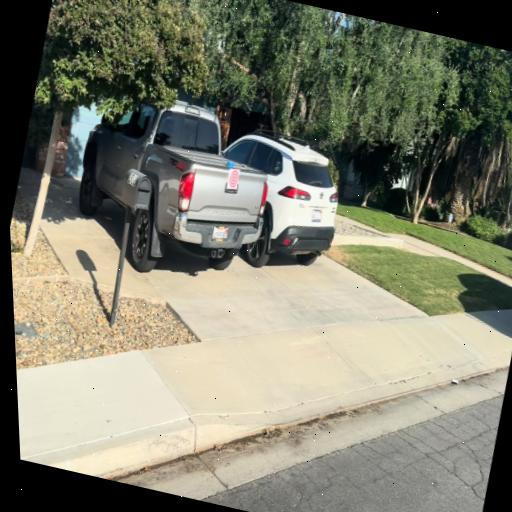bullseye: (228, 169, 240, 189)
